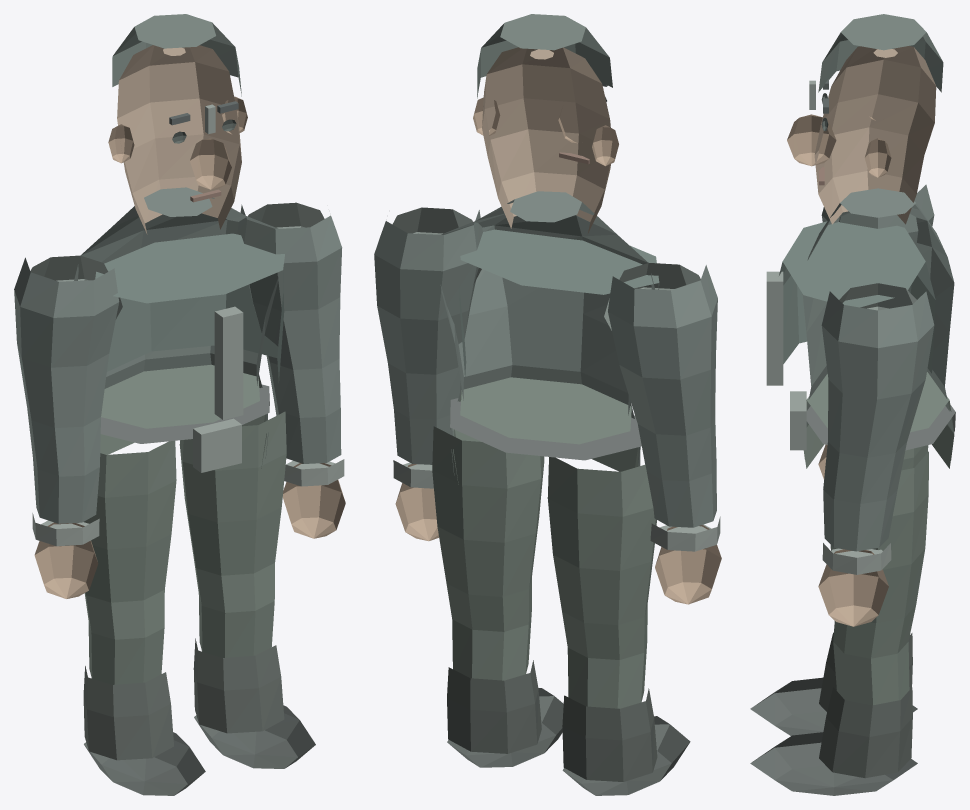
The model's file is modern_1000_2.glb.
3 views of the same model, side by side, from view 1: azimuth 30°, elevation 25°; view 2: azimuth 150°, elevation 25°; view 3: azimuth 270°, elevation 25° (orthographic). The views are drawn at different scales.
Parts seen in each view (by area): view 1: leftArm_0, rightLeg_0, leftLeg_0, rightArm_0, body_4, head_0, body_0, body_1, leftLeg_1, rightLeg_1, head_9, leftLeg_2 (+12 smaller); view 2: leftLeg_0, rightLeg_0, leftArm_0, body_0, rightArm_0, head_0, body_1, body_4, rightLeg_1, leftLeg_1, head_9, body_2 (+9 smaller); view 3: rightArm_0, head_0, rightLeg_0, body_4, body_0, rightLeg_1, rightLeg_2, head_9, rightArm_2, leftLeg_2, body_1, body_5 (+9 smaller).
Boxes of the visible parts, x1,y1,x2,y2 form: leftArm_0: (14, 257, 119, 523); rightLeg_0: (179, 411, 286, 657); leftLeg_0: (84, 440, 176, 684); rightArm_0: (237, 204, 342, 463); body_4: (95, 233, 284, 382); head_0: (117, 45, 241, 234); body_0: (74, 187, 278, 458); body_1: (100, 364, 266, 468); leftLeg_1: (83, 666, 173, 760); rightLeg_1: (193, 638, 284, 733); head_9: (112, 14, 241, 96); leftLeg_2: (84, 732, 205, 795); leftLeg_0: (547, 457, 656, 708); rightLeg_0: (432, 426, 544, 680); leftArm_0: (608, 265, 717, 527); body_0: (440, 191, 654, 475); rightArm_0: (374, 210, 482, 464); head_0: (482, 47, 610, 233); body_1: (453, 377, 638, 484); body_4: (459, 229, 659, 378); rightLeg_1: (447, 660, 541, 753); leftLeg_1: (562, 688, 657, 781); head_9: (477, 14, 612, 98); body_2: (449, 398, 641, 460); rightArm_0: (821, 291, 934, 551); head_0: (814, 46, 936, 224); rightLeg_0: (830, 451, 928, 705); body_4: (779, 221, 935, 373); body_0: (802, 188, 954, 459); rightLeg_1: (819, 687, 912, 778); rightLeg_2: (750, 732, 917, 795); head_9: (818, 14, 943, 92); rightArm_2: (818, 549, 888, 626); leftLeg_2: (750, 677, 917, 735); body_1: (804, 372, 954, 468); body_5: (766, 271, 783, 385).
Size of the model in its own units: 0.774 by 1.68 by 0.431.
